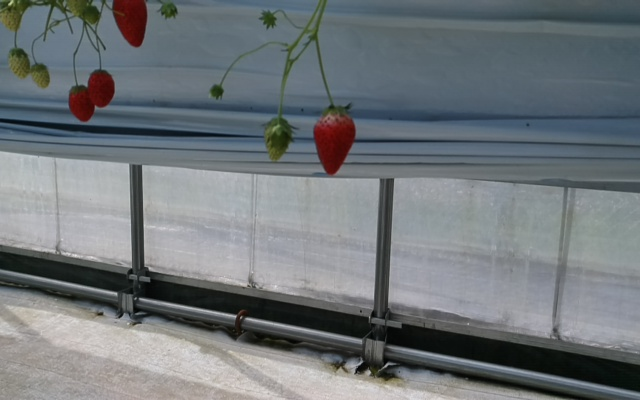GreenStrawberry: (261, 116, 292, 164), (7, 47, 30, 80), (30, 62, 52, 89), (1, 8, 22, 32)
MatureStrawberry: (310, 104, 358, 179), (110, 1, 149, 49), (87, 68, 117, 110), (67, 85, 98, 125)
